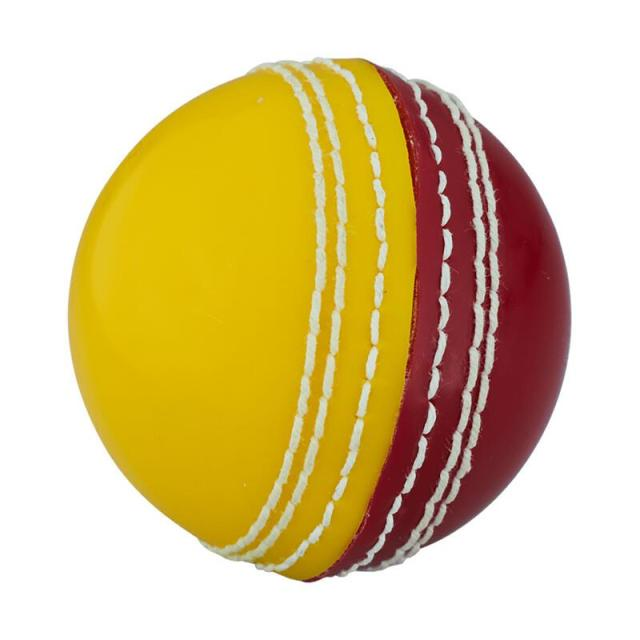ball: (60, 56, 570, 590)
